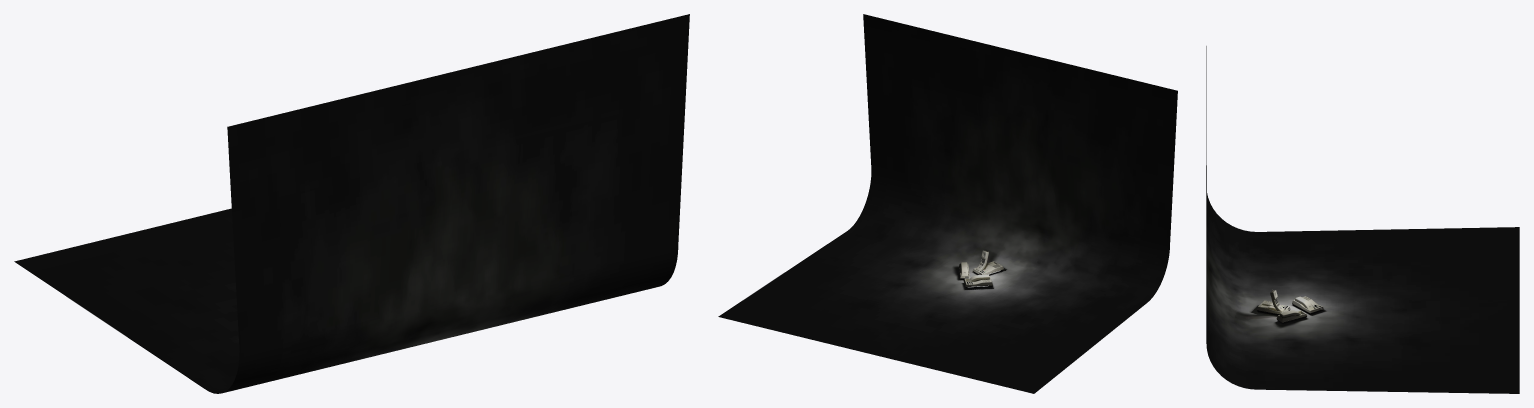
Rendered from phones.glb.
3 renders of one model, left to right at view 1: azimuth 30°, elevation 25°; view 2: azimuth 150°, elevation 25°; view 3: azimuth 270°, elevation 25°, orthographic. The views are drawn at different scales.
Visible parts, largest first — view 1: background; view 2: background, phones; view 3: background, phones.
Boxes of the visible parts, x1,y1,x2,y2 form: background: [14, 14, 689, 393]; background: [718, 14, 1177, 393]; phones: [959, 250, 1003, 286]; background: [1206, 46, 1519, 393]; phones: [1256, 289, 1323, 322].
Size of the model in its own units: 129 by 77.04 by 102.
8 materials, 4 textured.
